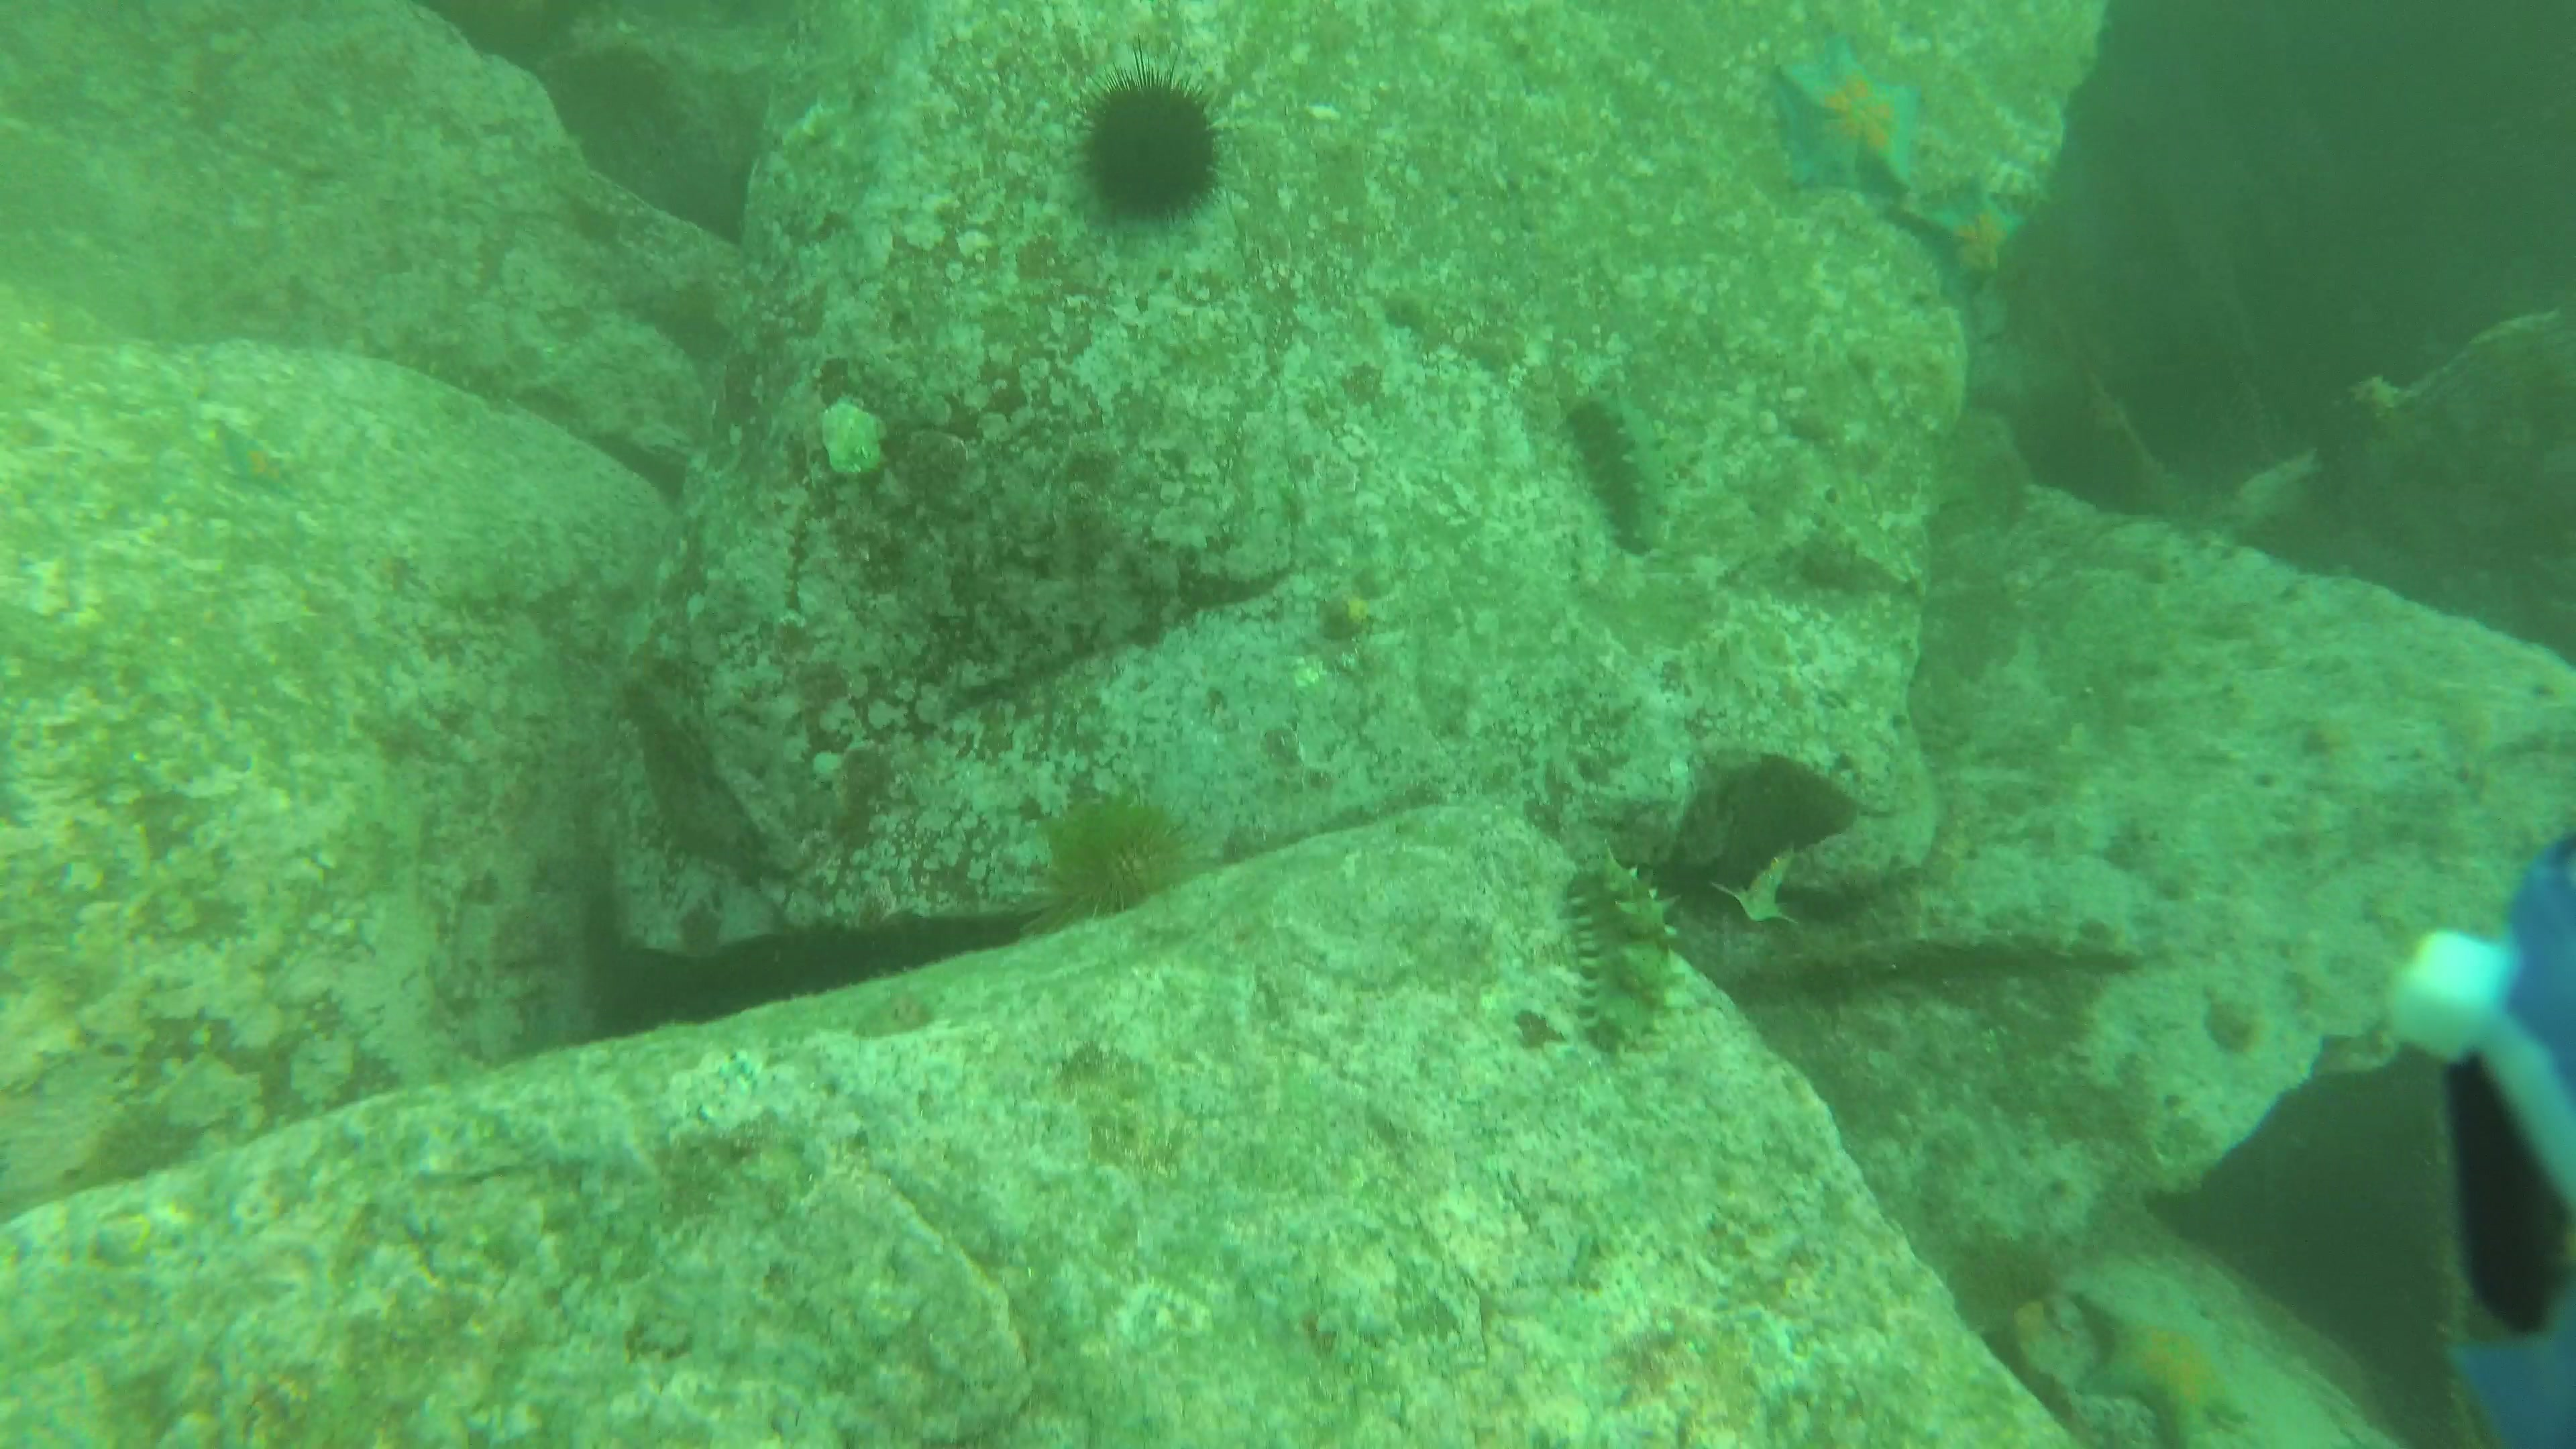echinus: (1046, 48, 1240, 241), (1003, 786, 1210, 943)
holothurian: (1555, 840, 1684, 1067), (1559, 377, 1691, 561)
starfish: (2063, 1274, 2259, 1445), (1762, 34, 1921, 203), (1893, 170, 2033, 297), (214, 418, 292, 494)
